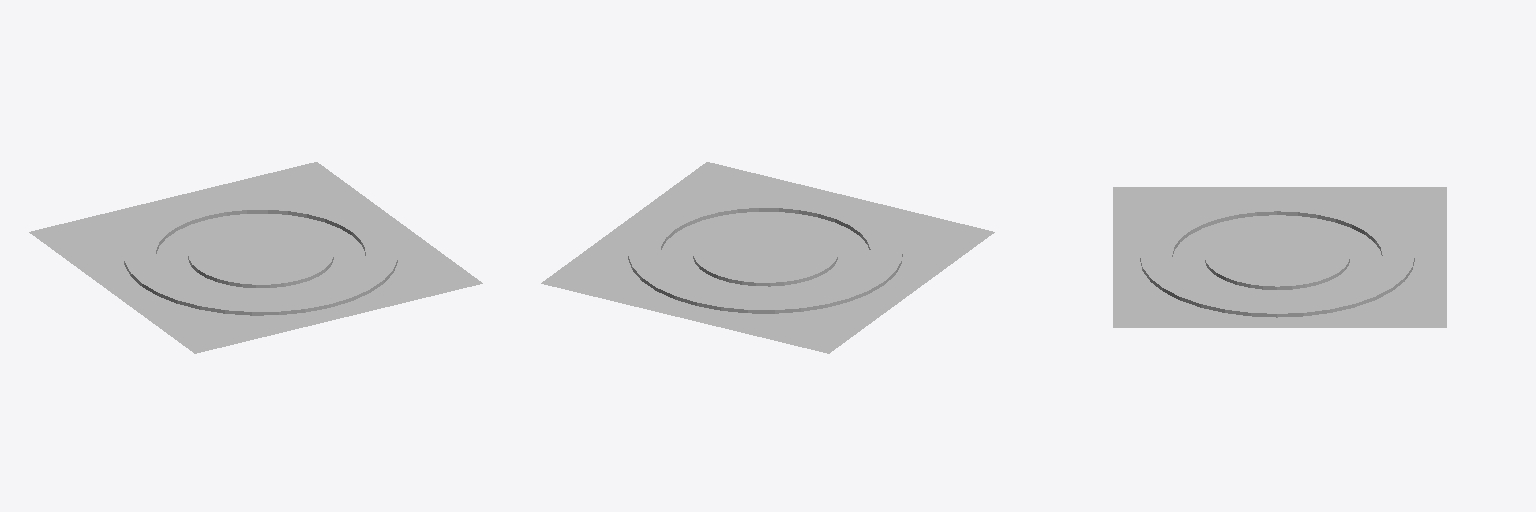
Rendered from target.obj.
3 renders of one model, left to right at view 1: azimuth 30°, elevation 25°; view 2: azimuth 150°, elevation 25°; view 3: azimuth 270°, elevation 25°, orthographic.
Visible parts, largest first — view 1: Cylinder; view 2: Cylinder; view 3: Cylinder.
Boxes of the visible parts, x1=… form: Cylinder: x1=29, y1=162, x2=482, y2=353; Cylinder: x1=541, y1=162, x2=994, y2=353; Cylinder: x1=1113, y1=187, x2=1446, y2=327.
Bounding box in the file's own units: 1.55 × 0.0204 × 1.55.